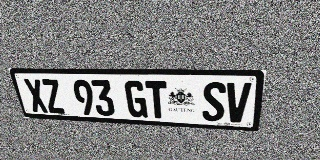3: (91, 80, 115, 116)
9: (71, 79, 97, 115)
G: (124, 80, 148, 118)
S: (202, 82, 226, 122)
T: (145, 81, 168, 119)
V: (225, 82, 252, 123)
X: (23, 79, 49, 113)
Z: (40, 79, 66, 114)
